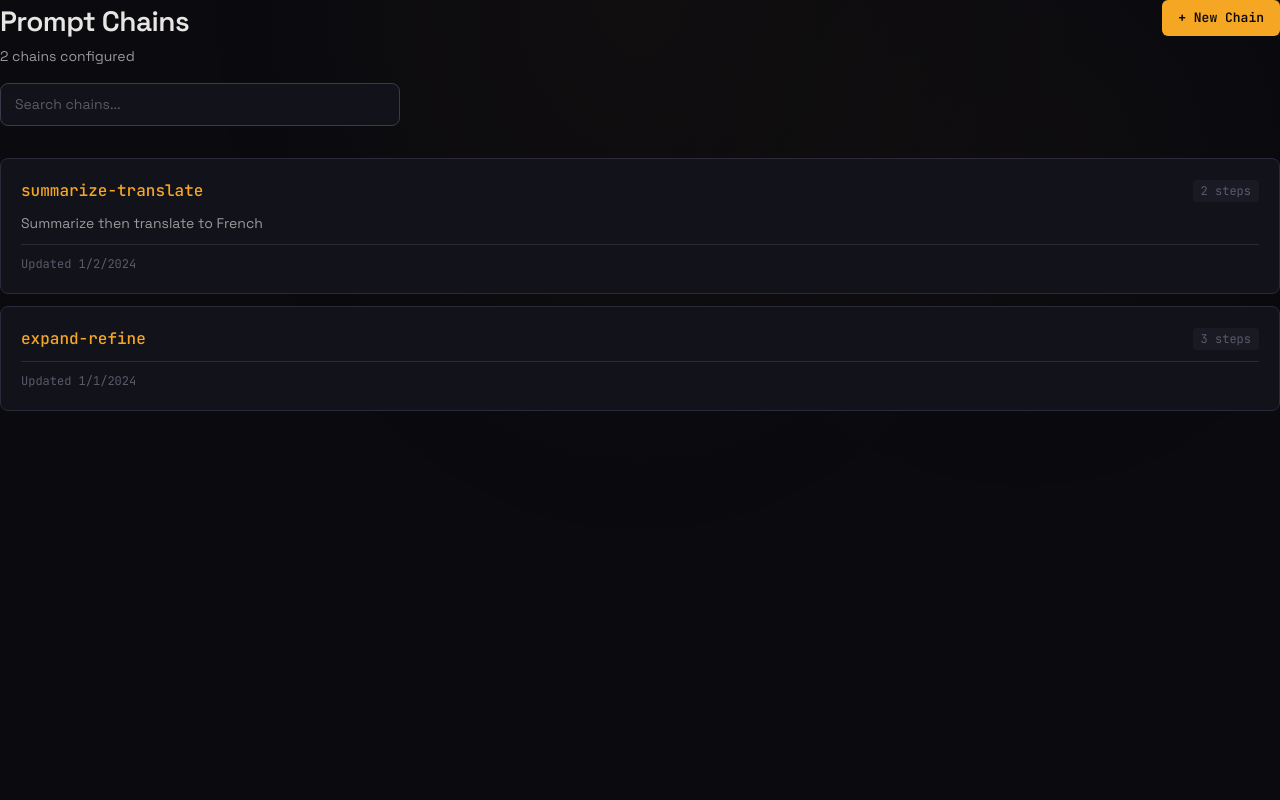
ChainsPage › opens create modal on button click
Click the button "+ New Chain": (1221, 18) [1162, 0, 1279, 36]
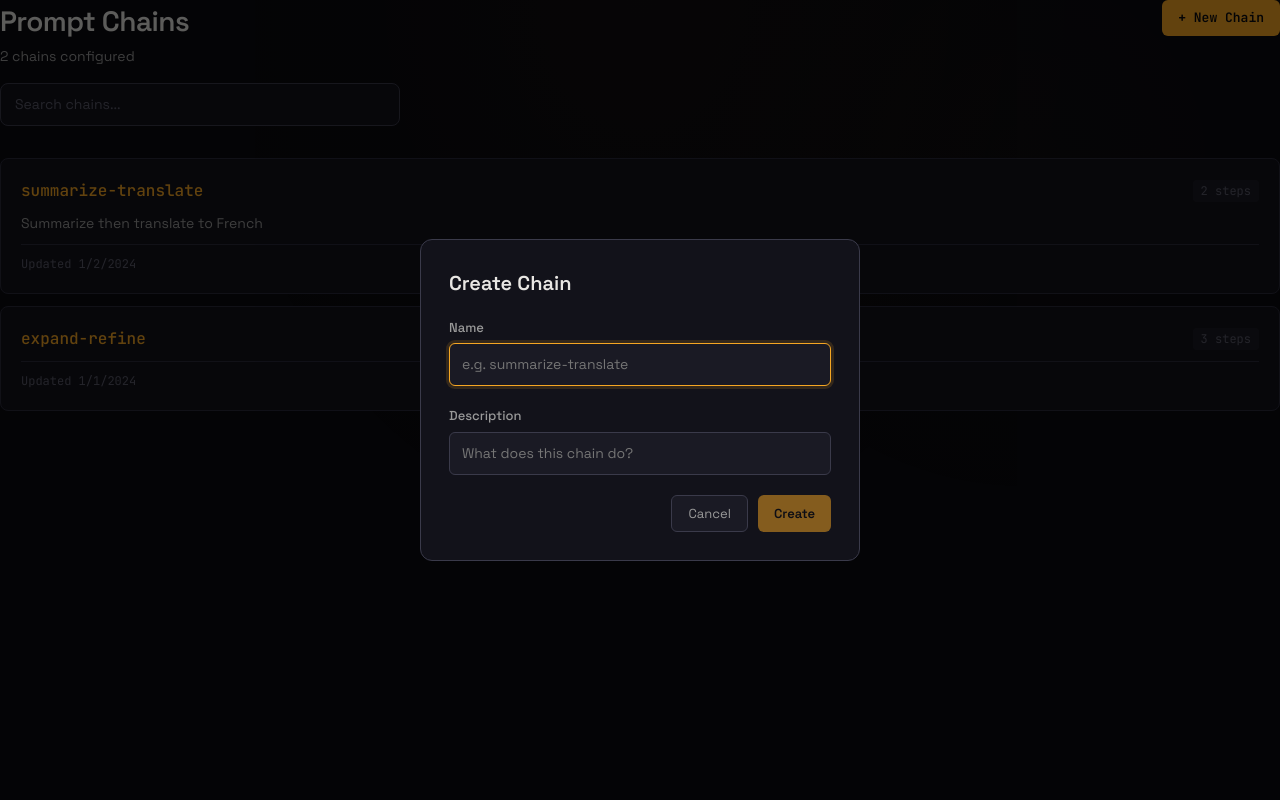
Expected: the heading "Create Chain" is shown, [449, 270, 572, 296]
Expected: the field with placeholder "e.g. summarize-translate" is shown, [449, 343, 831, 386]
